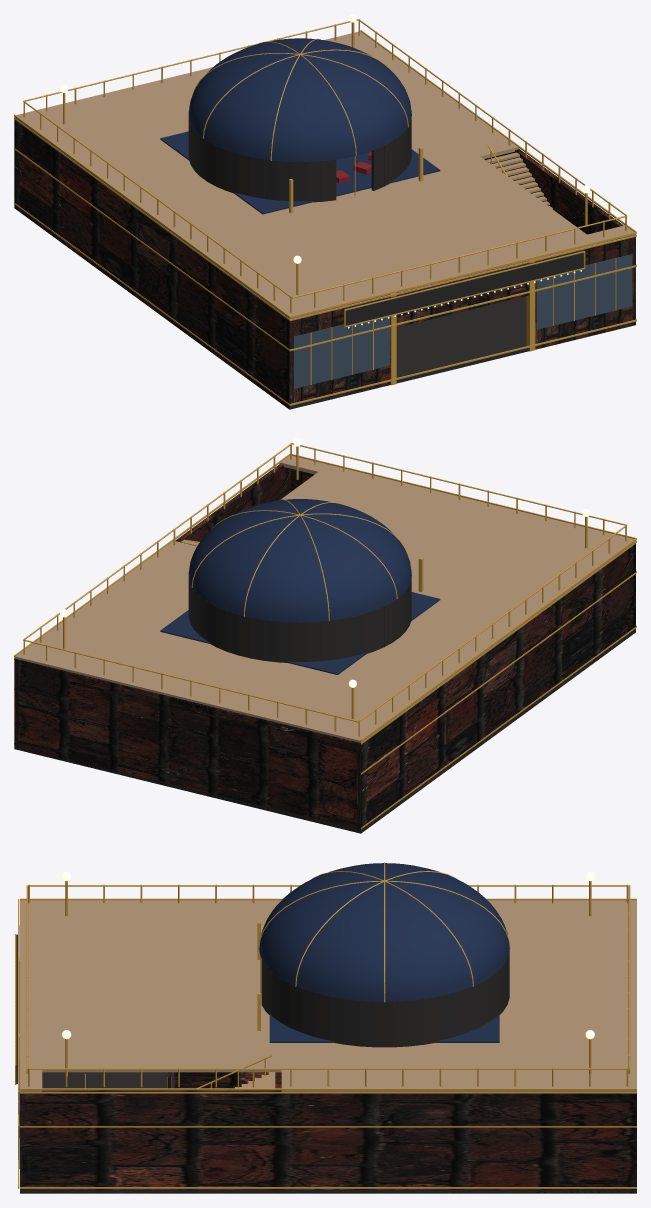
Rendered from cinema-planetarium.glb.
The picture shows the model from 3 angles, top to bottom: view 1: azimuth 30°, elevation 25°; view 2: azimuth 150°, elevation 25°; view 3: azimuth 270°, elevation 25°; orthographic projection. The views are drawn at different scales.
Visible parts, largest first — view 1: CinemaExterior_Sandstone, CinemaExterior_Oxblood brick, CinemaExterior_Planetarium midnight, CinemaExterior_Black lacquer, CinemaExterior_Warm brass, CinemaExterior_Smoked window, PlanetariumInterior_Planetarium midnight, CinemaInterior_Sandstone; view 2: CinemaExterior_Sandstone, CinemaExterior_Oxblood brick, CinemaExterior_Planetarium midnight, CinemaExterior_Black lacquer, CinemaExterior_Warm brass, PlanetariumInterior_Planetarium midnight; view 3: CinemaExterior_Sandstone, CinemaExterior_Oxblood brick, CinemaExterior_Planetarium midnight, CinemaExterior_Black lacquer, CinemaExterior_Warm brass, PlanetariumInterior_Planetarium midnight, CinemaInterior_Oxblood brick.
Boxes of the visible parts, x1,y1,x2,y2 form: CinemaExterior_Sandstone: [14, 31, 635, 318]; CinemaExterior_Oxblood brick: [14, 120, 635, 409]; CinemaExterior_Planetarium midnight: [188, 38, 411, 162]; CinemaExterior_Black lacquer: [14, 111, 635, 409]; CinemaExterior_Warm brass: [14, 19, 636, 405]; CinemaExterior_Smoked window: [293, 254, 632, 388]; PlanetariumInterior_Planetarium midnight: [160, 131, 440, 214]; CinemaInterior_Sandstone: [486, 152, 552, 209]; CinemaExterior_Sandstone: [14, 455, 635, 743]; CinemaExterior_Oxblood brick: [14, 464, 635, 833]; CinemaExterior_Planetarium midnight: [188, 499, 411, 622]; CinemaExterior_Black lacquer: [14, 571, 635, 833]; CinemaExterior_Warm brass: [14, 443, 636, 829]; PlanetariumInterior_Planetarium midnight: [160, 592, 440, 674]; CinemaExterior_Sandstone: [20, 900, 636, 1091]; CinemaExterior_Oxblood brick: [20, 1090, 636, 1193]; CinemaExterior_Planetarium midnight: [259, 863, 509, 1001]; CinemaExterior_Black lacquer: [16, 934, 636, 1193]; CinemaExterior_Warm brass: [15, 862, 636, 1188]; PlanetariumInterior_Planetarium midnight: [269, 1014, 499, 1042]; CinemaInterior_Oxblood brick: [167, 1072, 281, 1088].
Size of the model in its own units: 24.06 by 12.86 by 33.32.
Materials: 11 (1 with a texture image).
